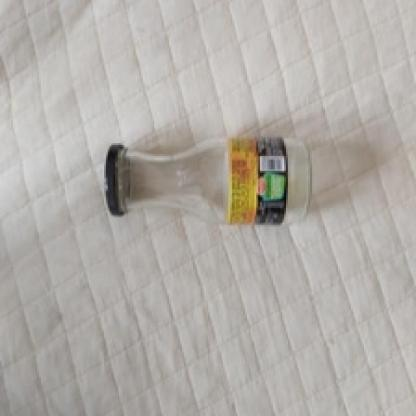Can: (104, 137, 311, 226)
